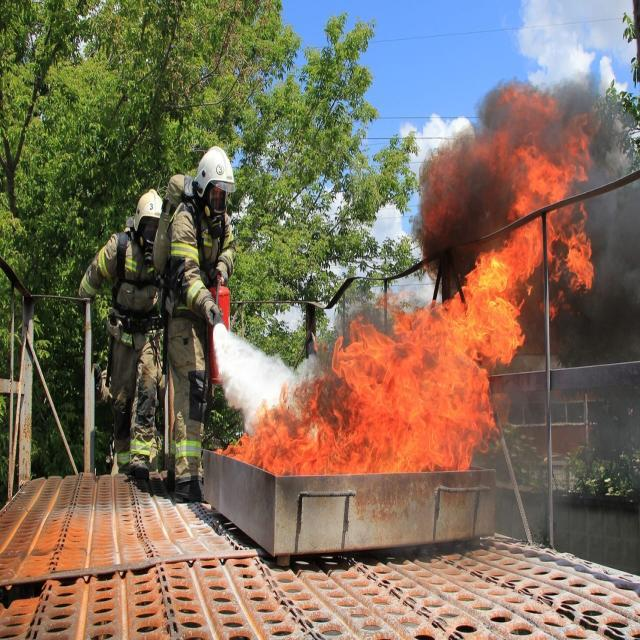Fire: (235, 298, 523, 474), (448, 144, 594, 364)
Smoke: (419, 82, 640, 376)
